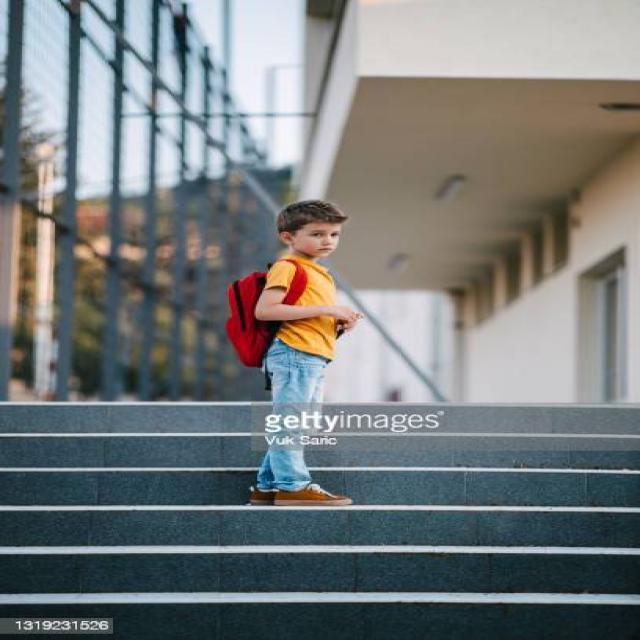child: (196, 196, 384, 516)
